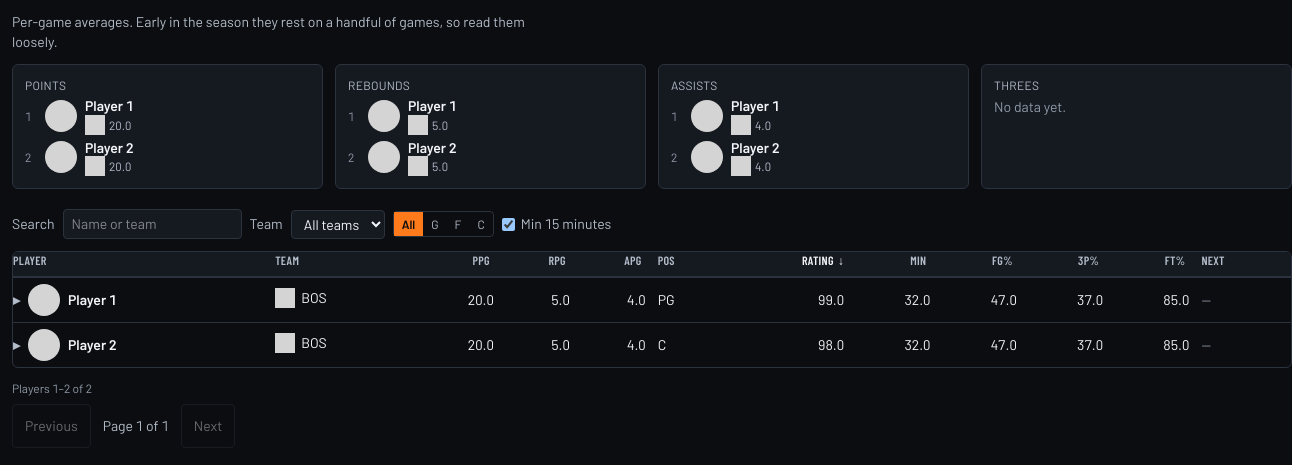
Test: PlayerHubPanel › filters by position chip
Check: the text "Player 1" is shown, box [28,284,116,316]
Click the button "C" at [481, 224], box [469,212,493,236]
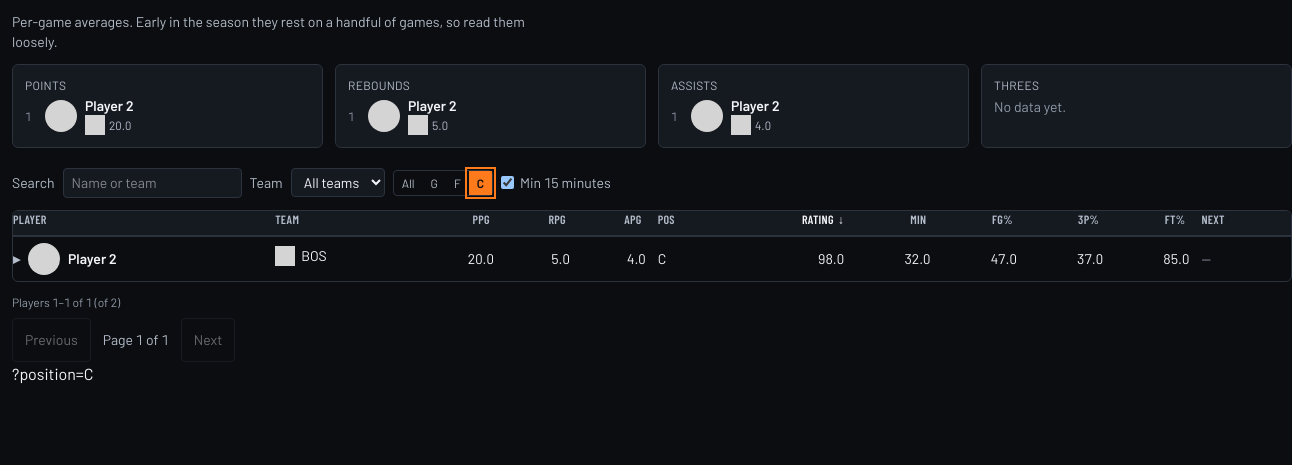
Check: the text "Player 2" is shown, box [28,242,116,274]
Check: the text "Player 1" is gone
